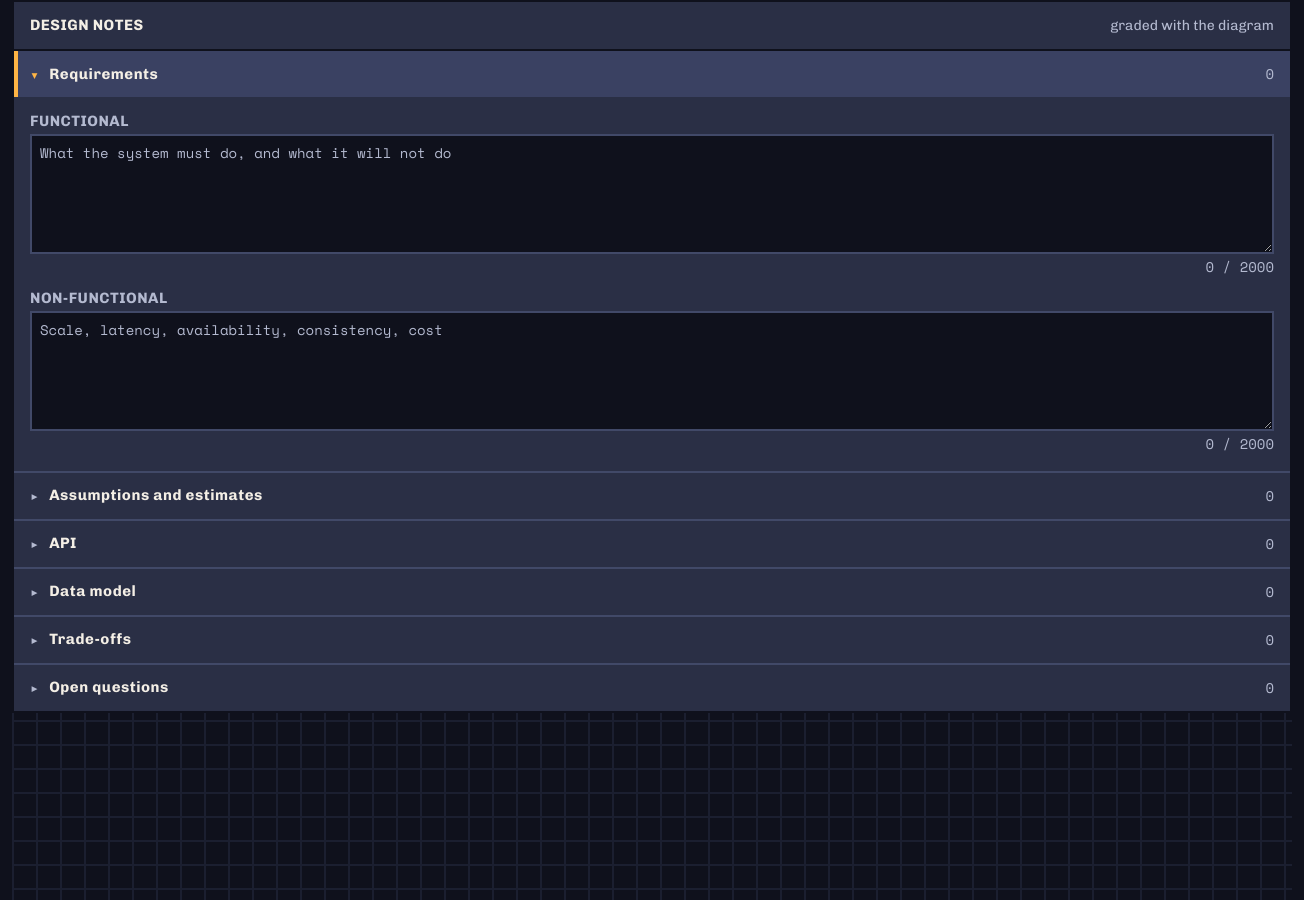
notes accordion (F2) › a closed section keeps its field mounted but hidden; opening shows it; several can be open
Click the button with test id "notes-section-api-toggle".
click(35, 543)  # box [14,521,1290,567]
(page scrolled)
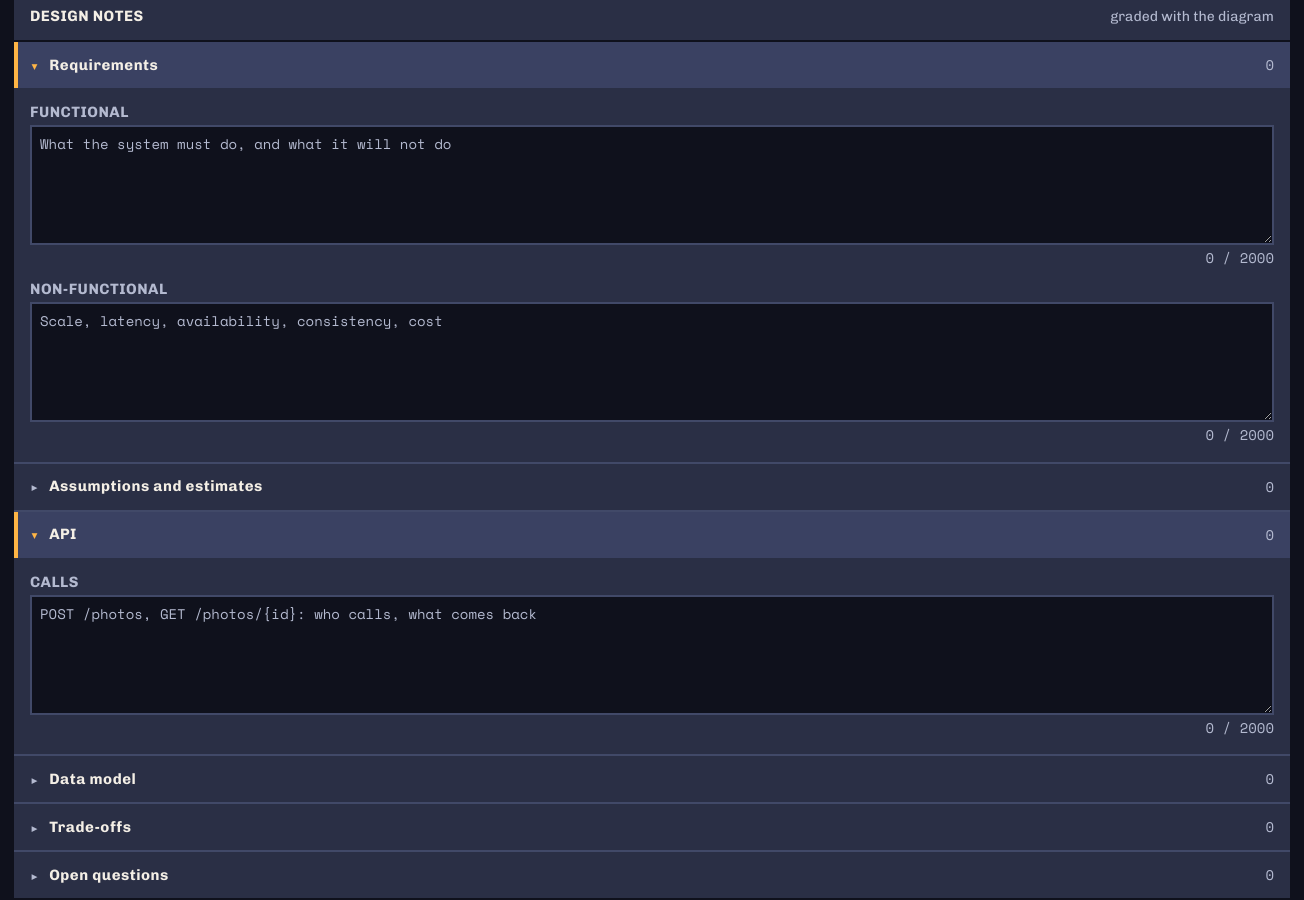
Click the button with test id "notes-section-open-toggle".
click(109, 875)  # box [14,852,1290,898]
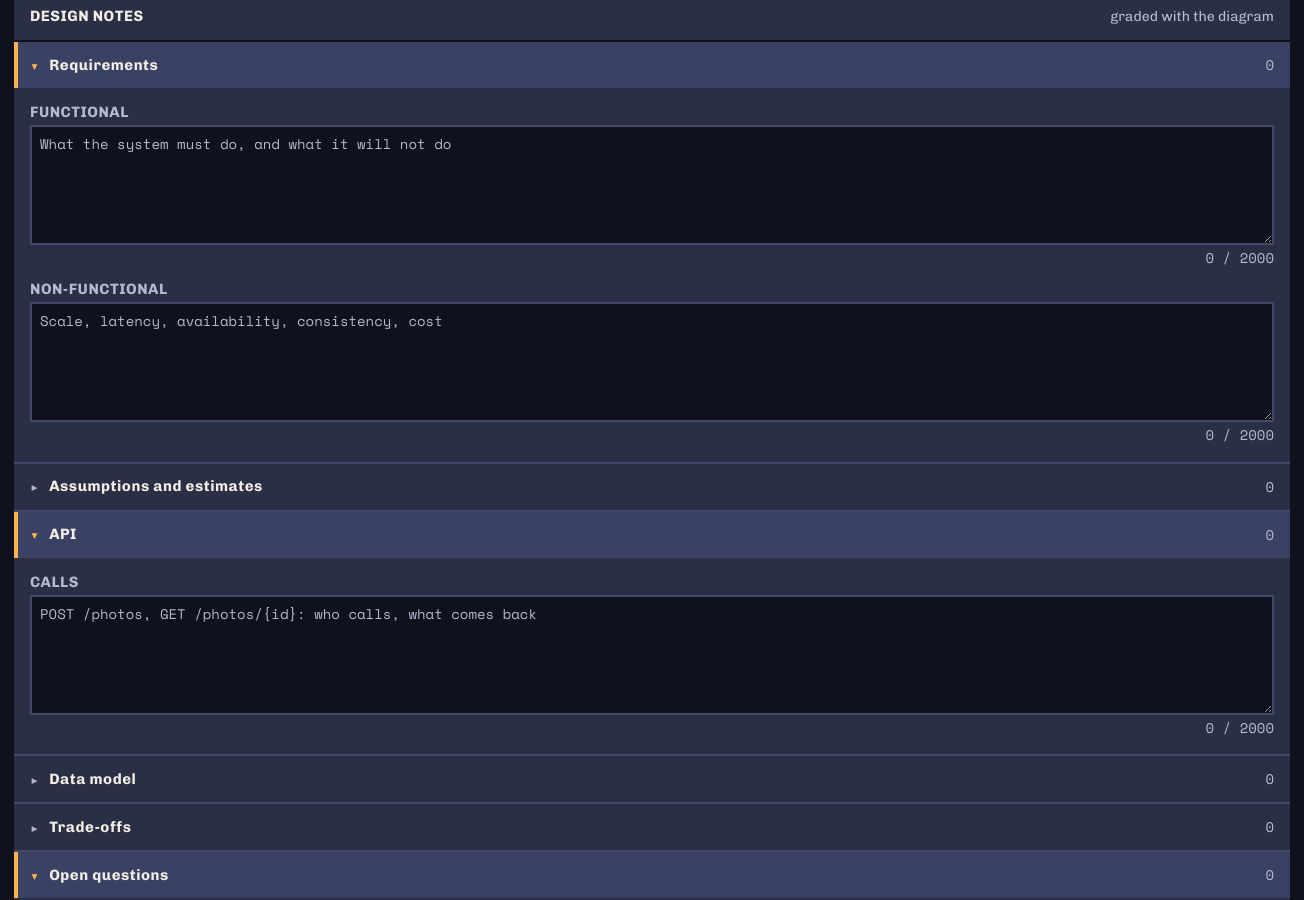
Expected: the text box with test id "notes-field-req-fn" is shown, [30,125,1274,245]
Result: the text box with test id "notes-field-api" is shown at [30,595,1274,715]
Result: the button with test id "notes-section-api-toggle" is expanded
Click the button with test id "notes-section-api-toggle".
click(35, 534)  # box [14,512,1290,558]
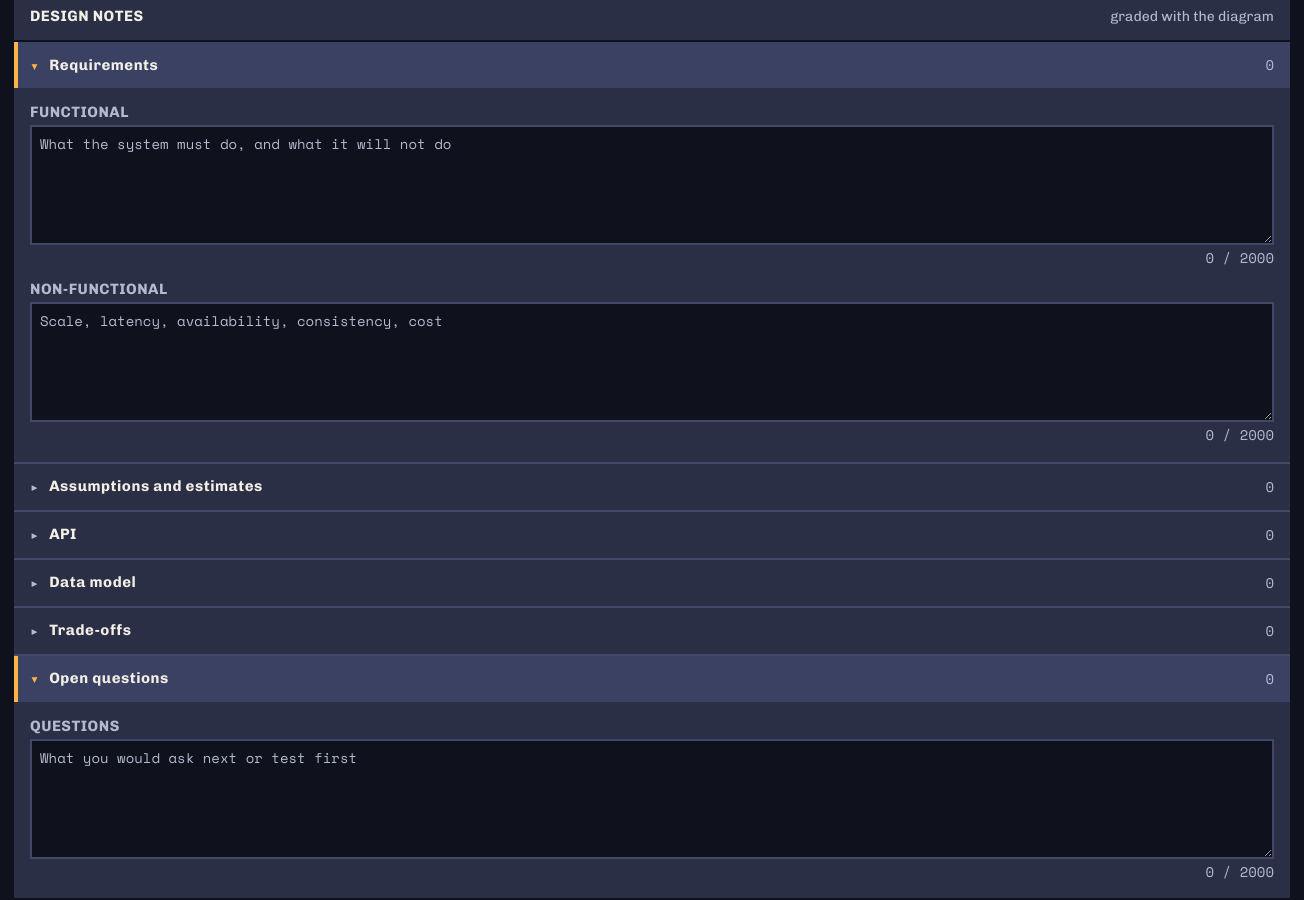
Result: the text box with test id "notes-field-api" is gone
